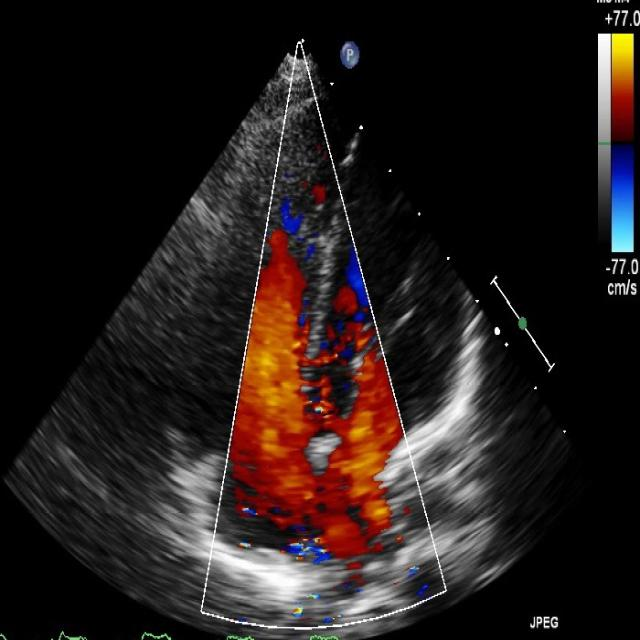ASDType2: (228, 425, 414, 574)
